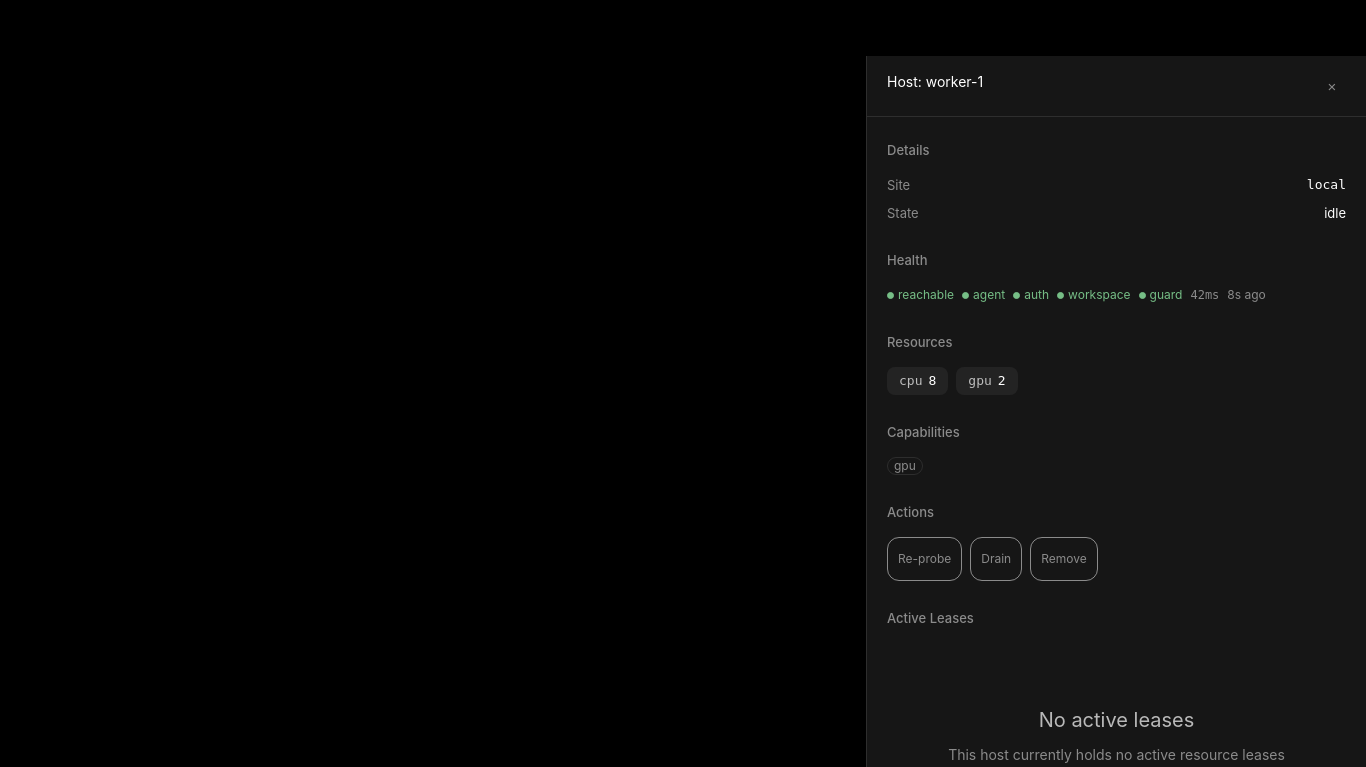
Test case: CrewDrawer › should show AuthError message when auth fails
Click the button "Drain" at x=996, y=559, box 970,537 -> 1022,581
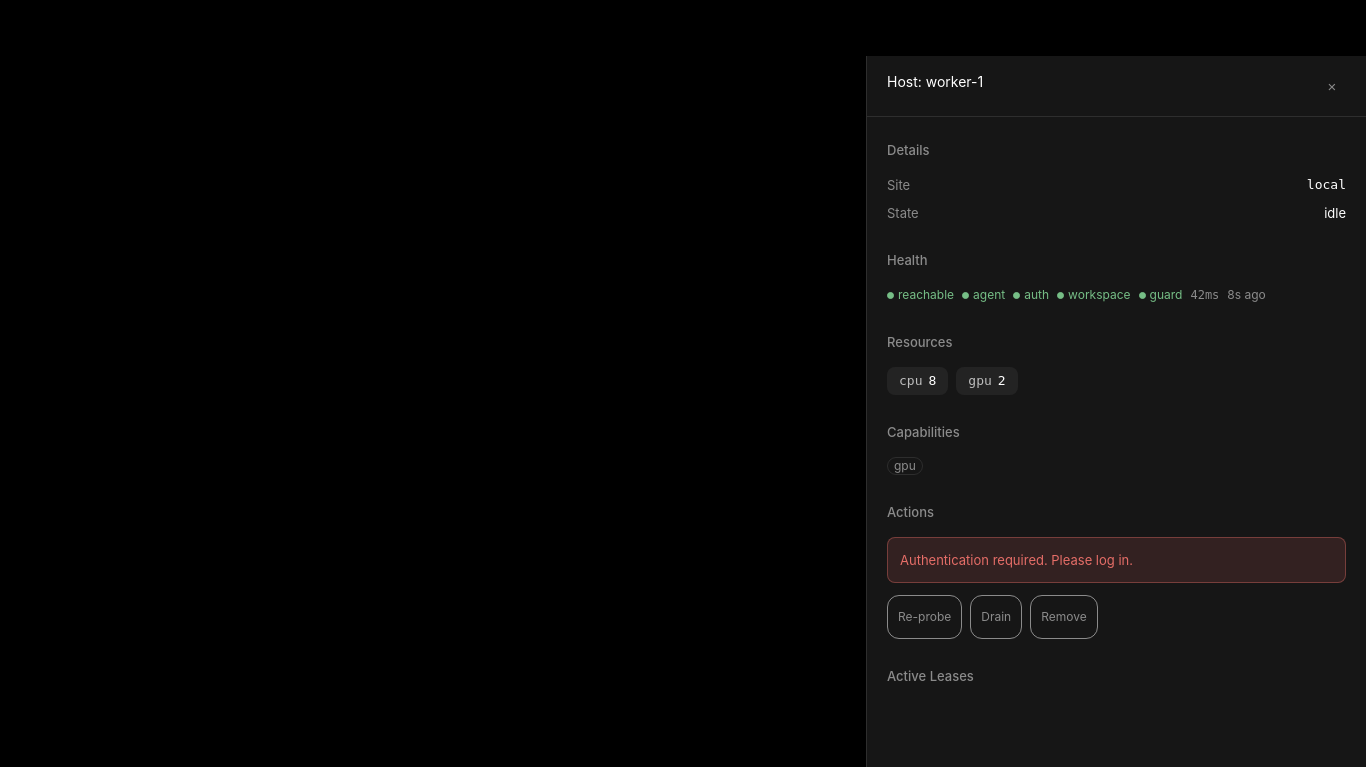
expect the text "Authentication required. Please log in." is shown: met, box 887,537 -> 1346,583
